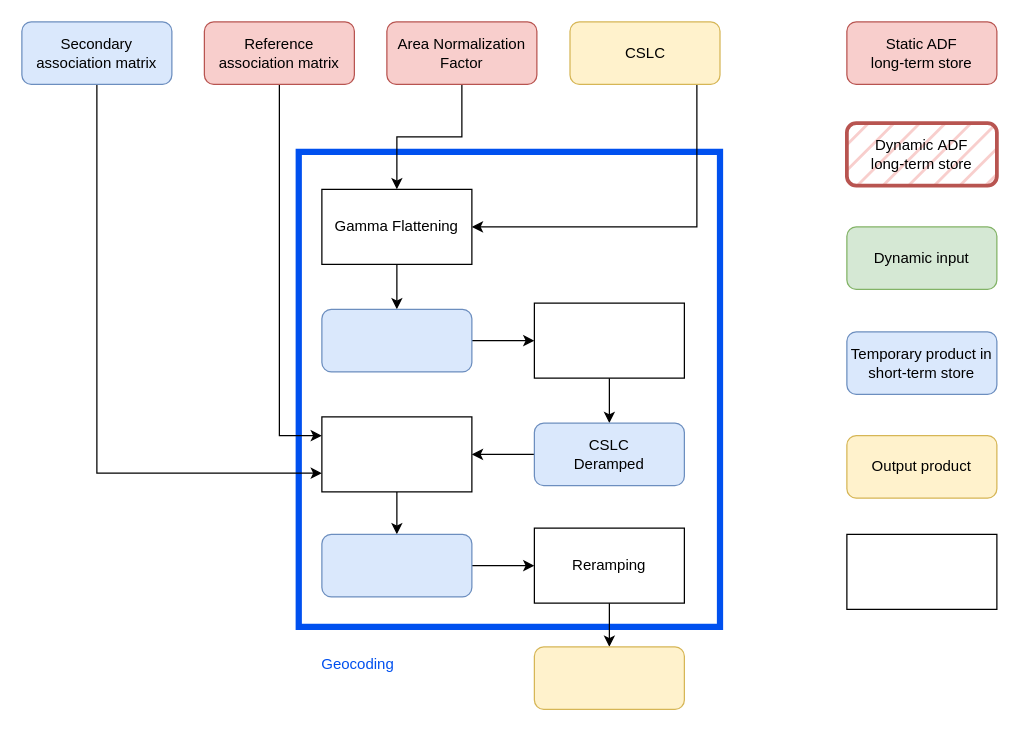
Image size: 1020x731. Some labels were removed from this diagram. The box of each missing label's shape, as (x1, y1, x2, y2) in pixels:
CSLC (Calibrated Gamma0): (321, 308, 472, 372)
De-ramping: (533, 302, 684, 378)
GSCL Deramped: (321, 533, 472, 597)
GSLC: (533, 646, 684, 709)
Processing block: (846, 533, 997, 609)
Resampling (sinc based): (321, 416, 472, 492)
